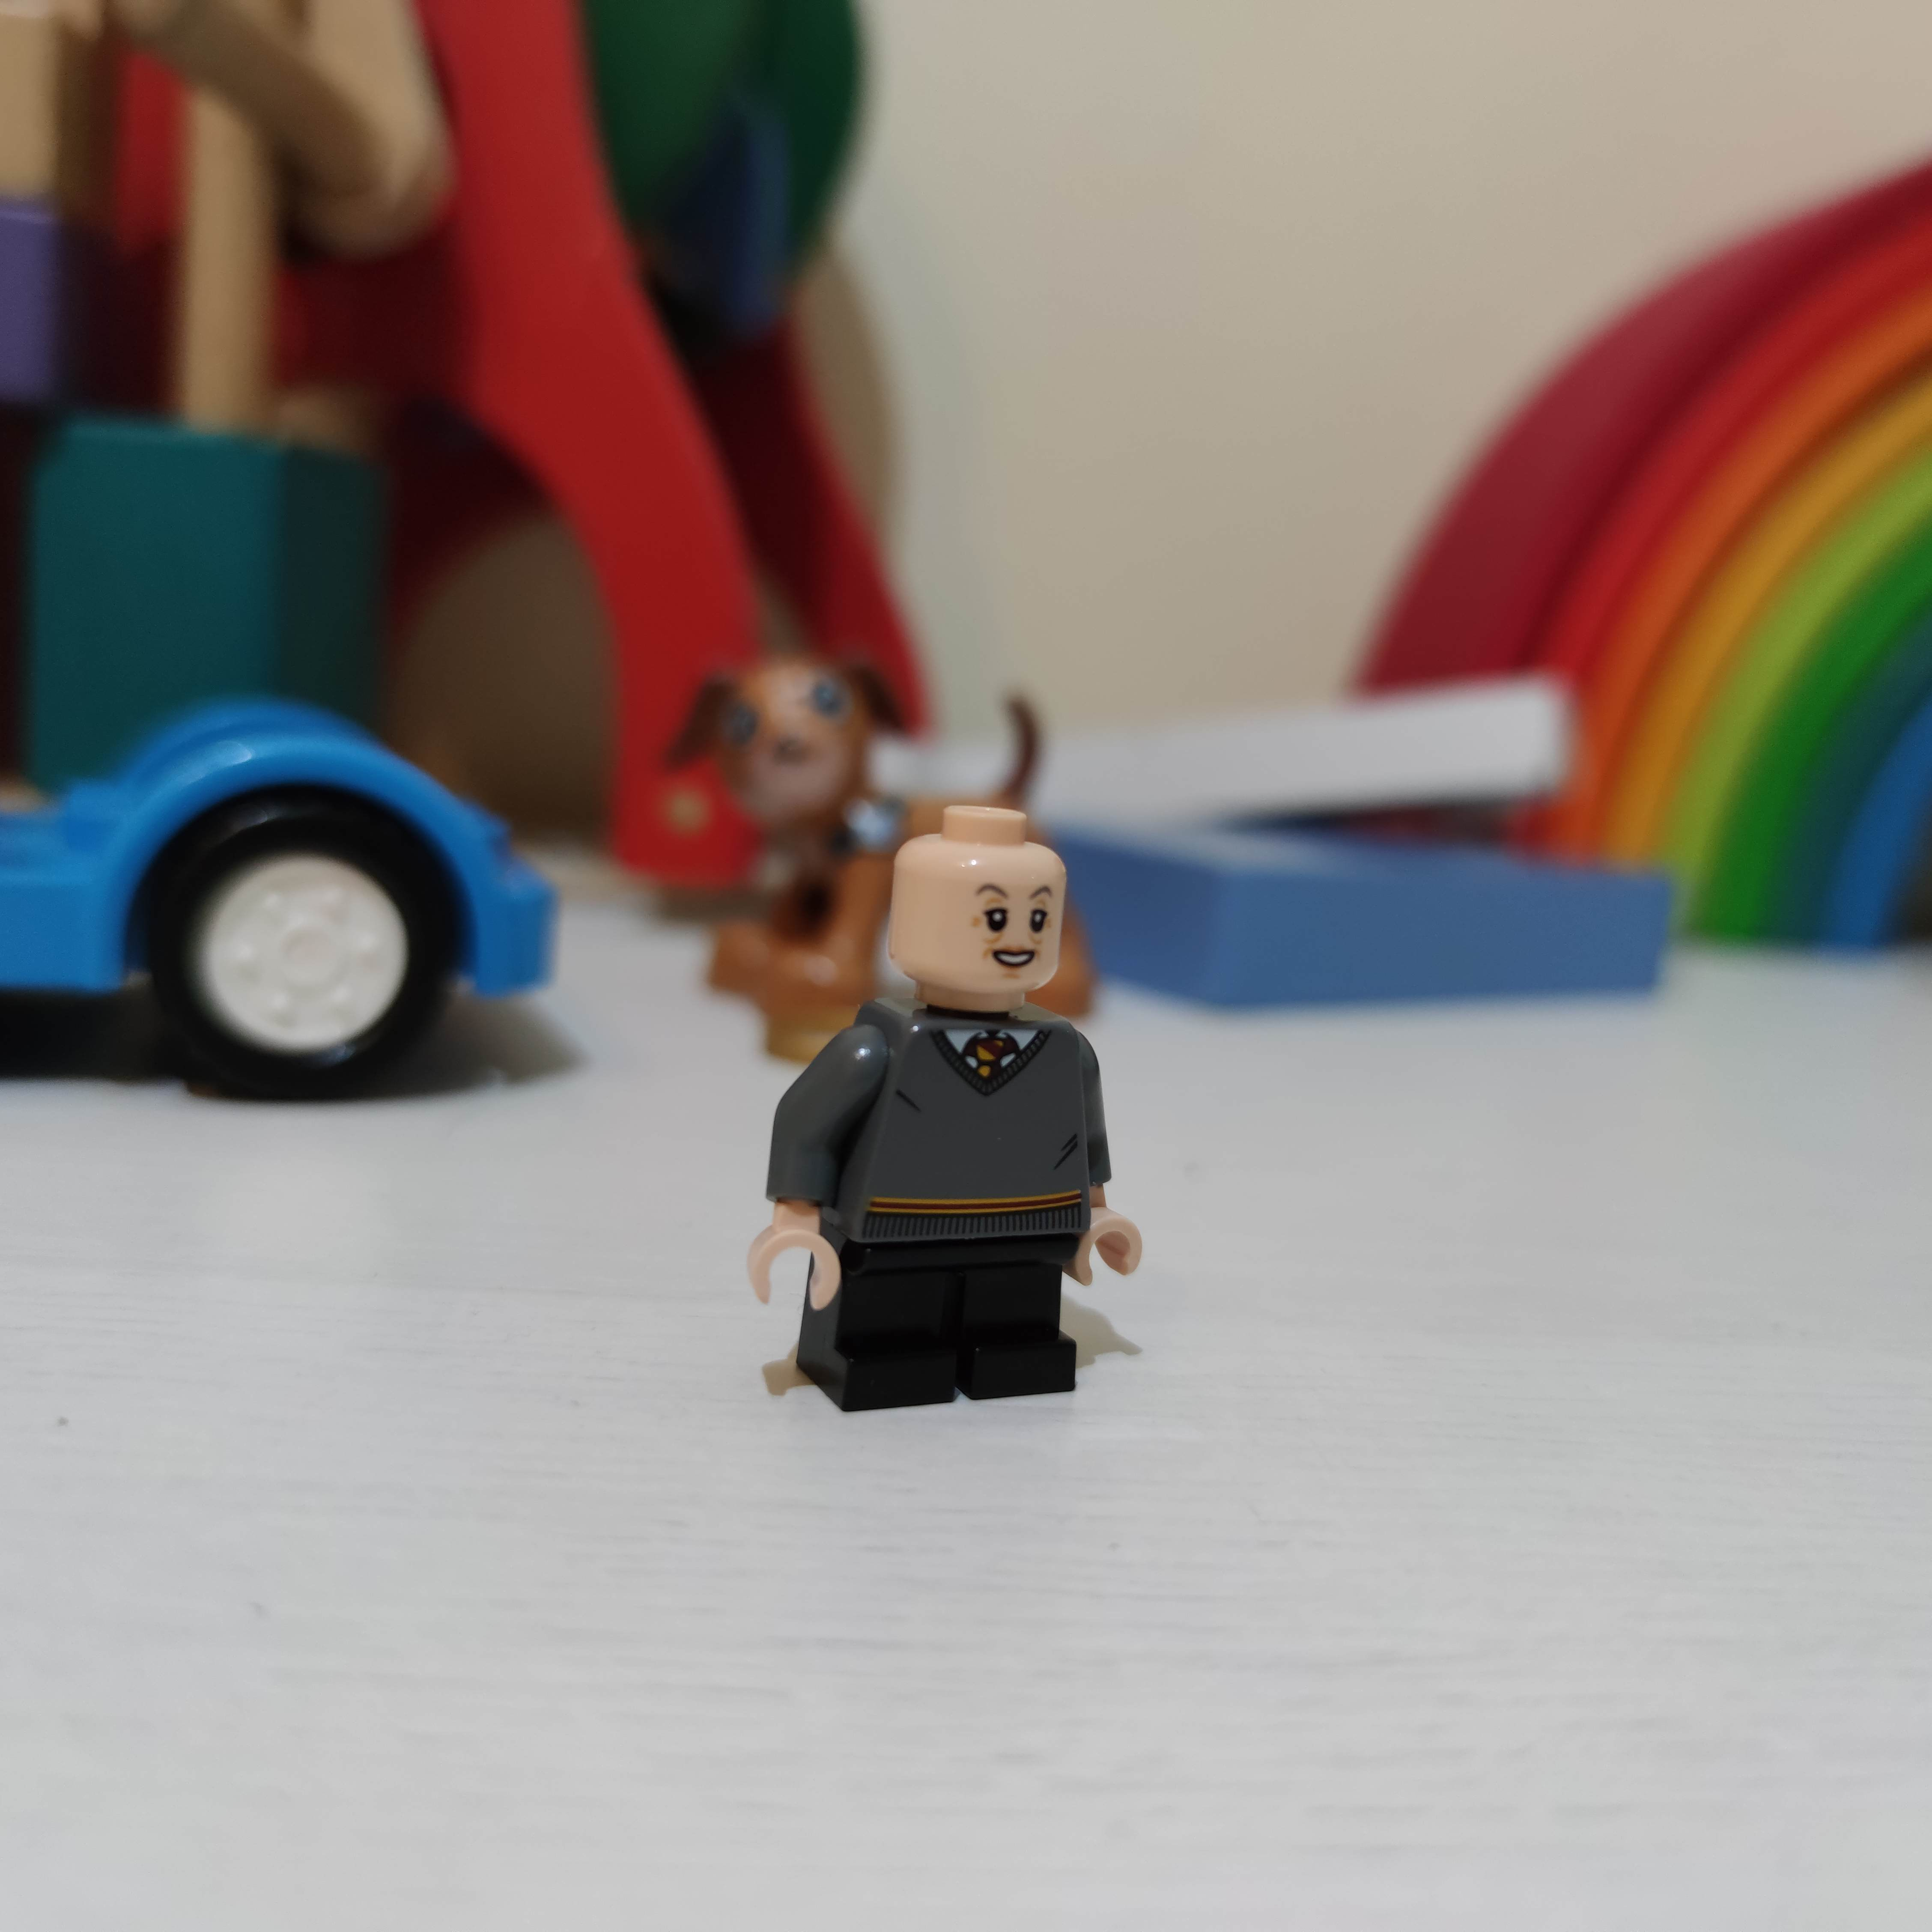lego: (725, 794, 1154, 1384)
